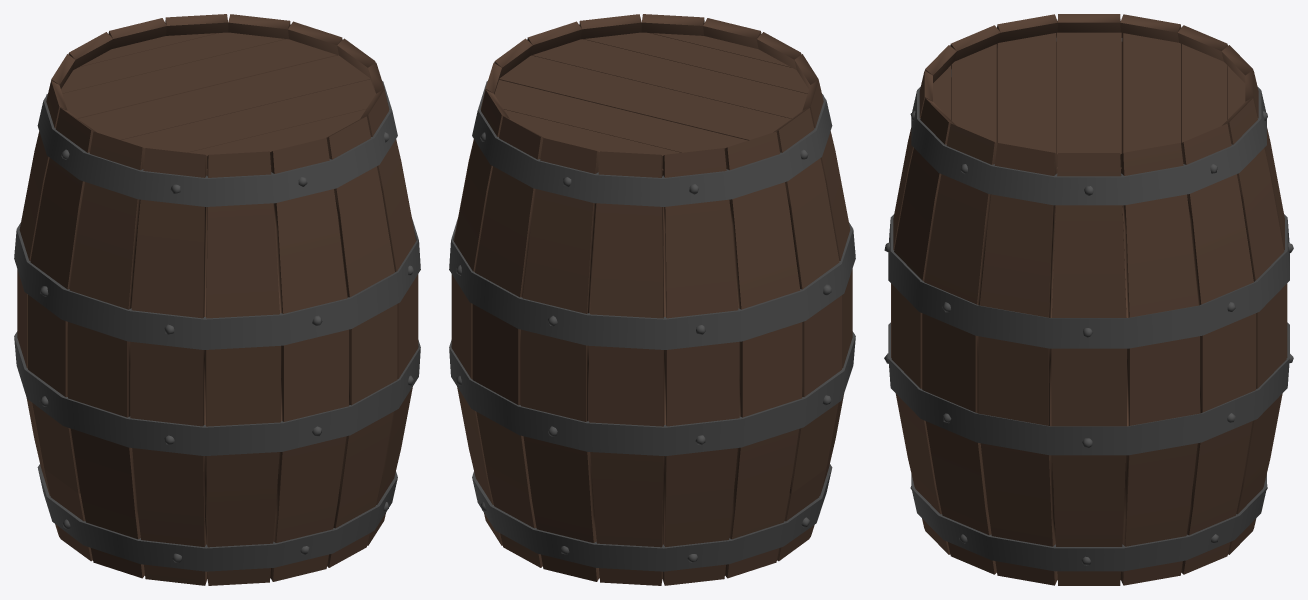
File: S_Barrel.fbx
3 renders of one model, left to right at view 1: azimuth 30°, elevation 25°; view 2: azimuth 150°, elevation 25°; view 3: azimuth 270°, elevation 25°, orthographic.
Parts seen in each view (by area): view 1: S_Barrel; view 2: S_Barrel; view 3: S_Barrel.
Part boxes in pixels (x1,y1,x2,y2): S_Barrel: (14,14,420,585); S_Barrel: (449,14,855,585); S_Barrel: (884,14,1293,585).
Bounding box in the file's own units: 97.68 × 113 × 97.31.
